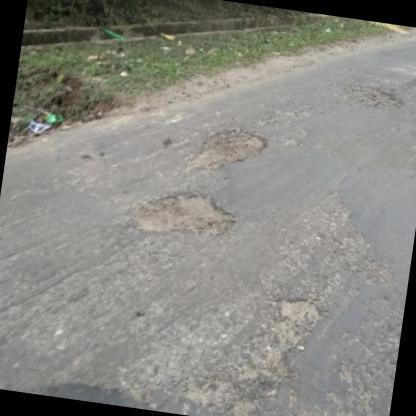pothole: (228, 296, 330, 392), (126, 186, 242, 240), (190, 128, 276, 172), (346, 82, 404, 110)
